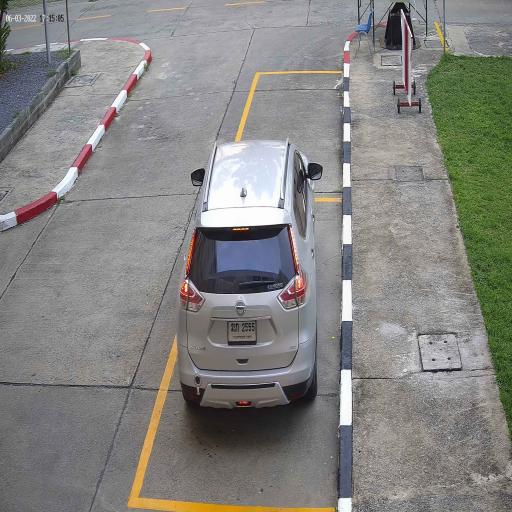car: (175, 136, 320, 414)
